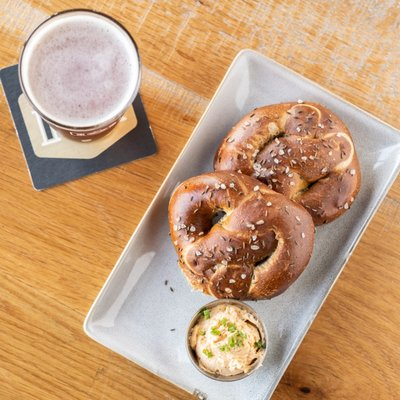pizza: (18, 10, 142, 143)
